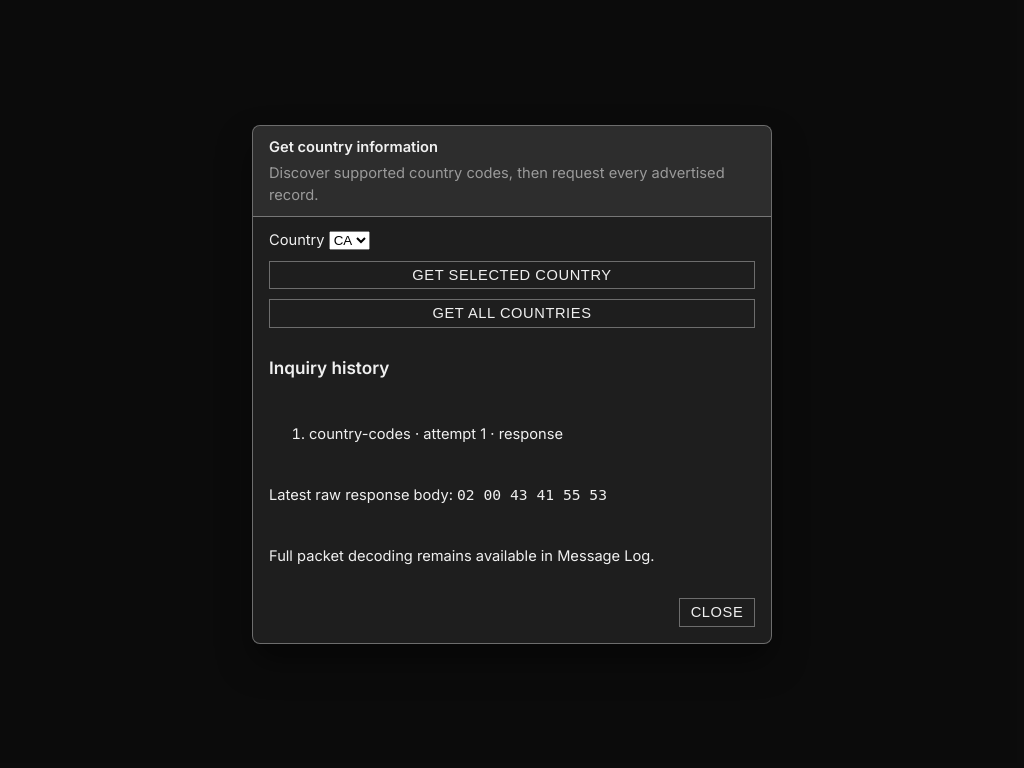
Test case: SourceInquiryDialog › discovers countries and fetches all sequentially with complete history
Click the button "Get all countries" at (512, 314), box [269,299,755,328]
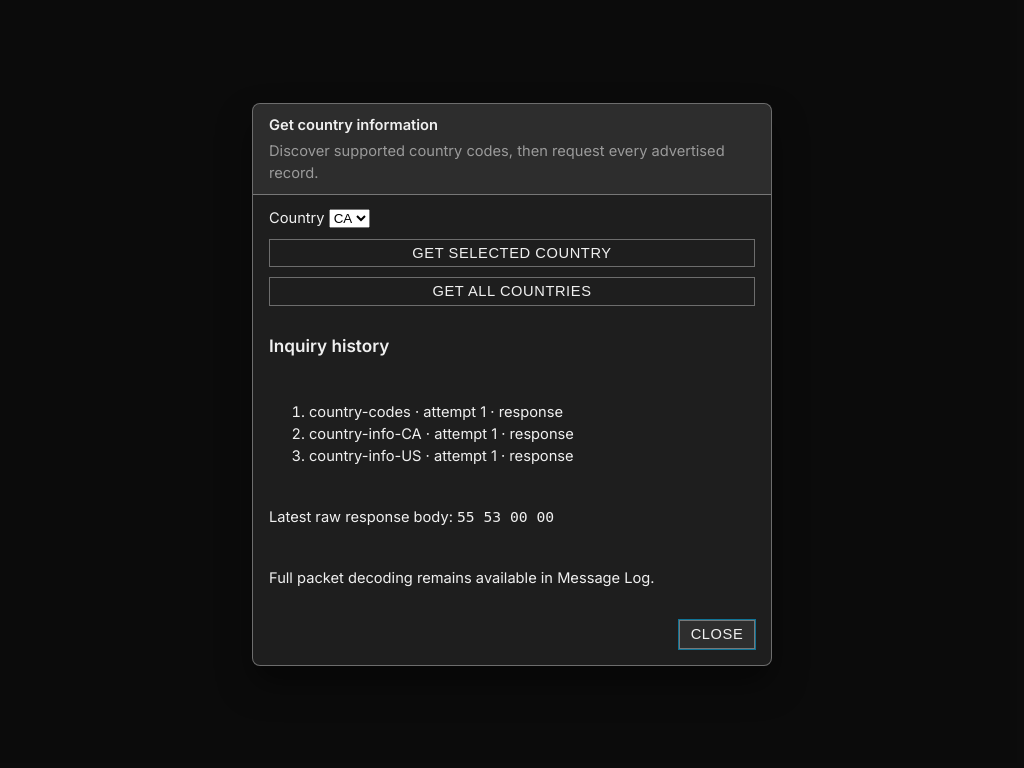
Expected: the list item "country-codes · attempt 1 · response" is shown, [309,402,563,420]
Expected: the list item "country-info-CA · attempt 1 · response" is shown, [309,424,574,442]
Expected: the list item "country-info-US · attempt 1 · response" is shown, [309,446,574,464]
